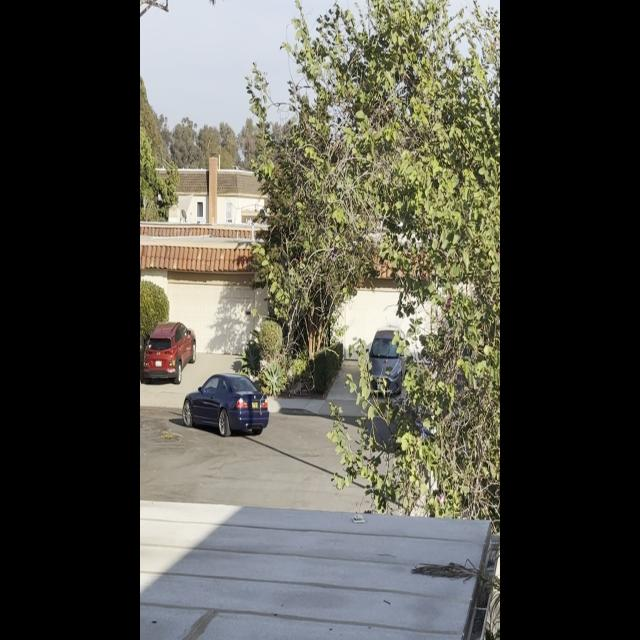Carbeetle: (181, 369, 273, 442)
Civilian: (140, 318, 199, 383), (363, 320, 409, 403)
